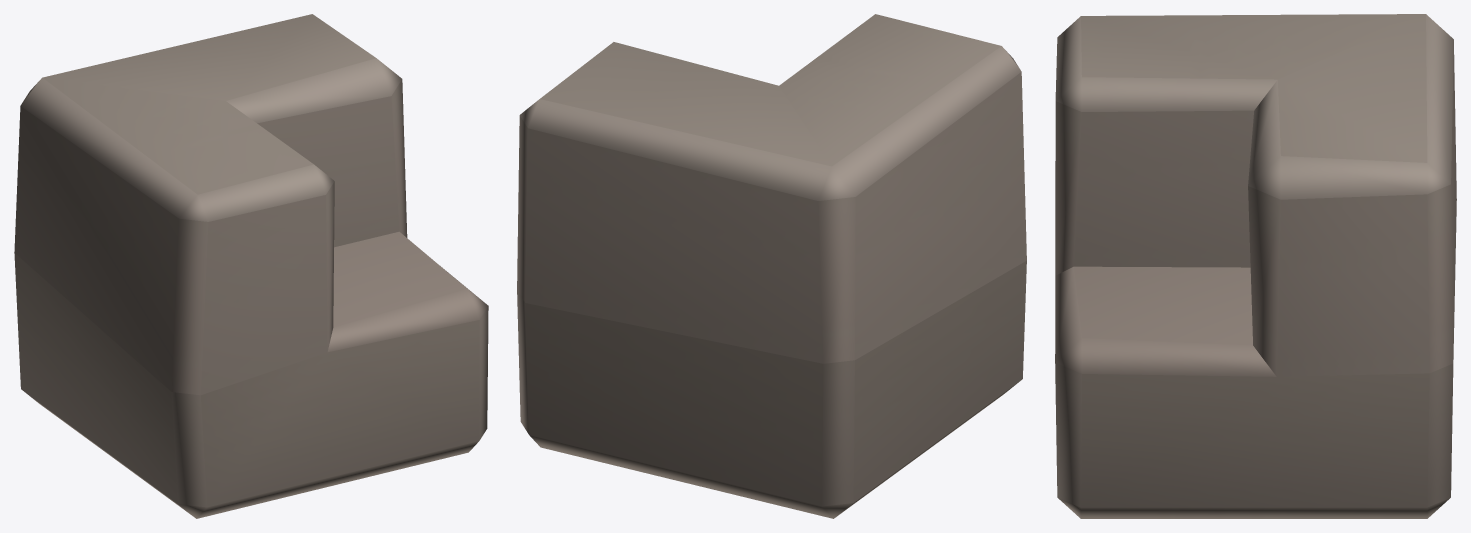
File: elf_stair_corner_conc_shade_3.fbx
3 renders of one model, left to right at view 1: azimuth 30°, elevation 25°; view 2: azimuth 150°, elevation 25°; view 3: azimuth 270°, elevation 25°, orthographic. The views are drawn at different scales.
Parts seen in each view (by area): view 1: elf_stair_corner_conc_shade_3; view 2: elf_stair_corner_conc_shade_3; view 3: elf_stair_corner_conc_shade_3.
Part boxes in pixels (x1=…): elf_stair_corner_conc_shade_3: x1=14, y1=14, x2=488, y2=518; elf_stair_corner_conc_shade_3: x1=517, y1=14, x2=1026, y2=518; elf_stair_corner_conc_shade_3: x1=1055, y1=14, x2=1456, y2=518.
Bounding box in the file's own units: 52.26 × 50.74 × 51.02.
